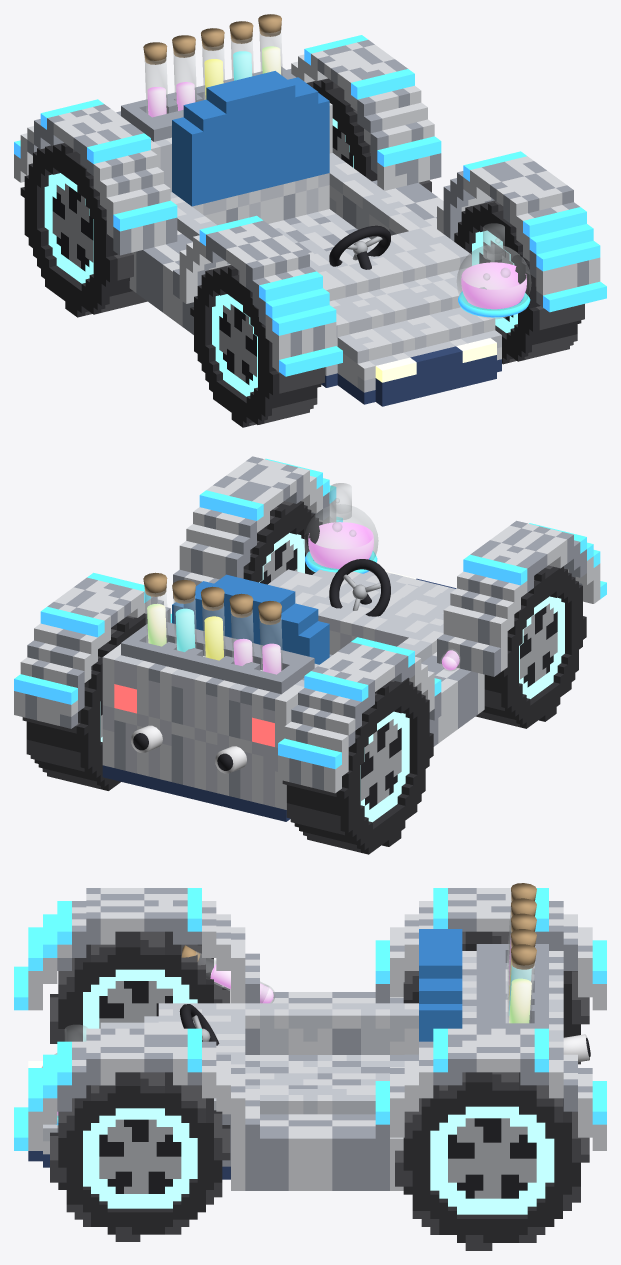
File: K02_LabRunner.glb
3 views of the same model, one above another, from view 1: azimuth 30°, elevation 25°; view 2: azimuth 150°, elevation 25°; view 3: azimuth 270°, elevation 25° (orthographic). The views are drawn at different scales.
Parts seen in each view (by area): view 1: K02_LabRunner_Mesh, K02_Wheel_RL, K02_Wheel_FL, K02_Wheel_FR, K02_Wheel_RR; view 2: K02_LabRunner_Mesh, K02_Wheel_RL, K02_Wheel_FL, K02_Wheel_RR, K02_Wheel_FR; view 3: K02_LabRunner_Mesh, K02_Wheel_RR, K02_Wheel_FR, K02_Wheel_FL, K02_Wheel_RL.
Boxes of the visible parts, bbox=[...] form: K02_LabRunner_Mesh: bbox=[14, 14, 606, 406]; K02_Wheel_RL: bbox=[20, 143, 147, 317]; K02_Wheel_FL: bbox=[190, 265, 324, 427]; K02_Wheel_FR: bbox=[454, 200, 584, 364]; K02_Wheel_RR: bbox=[306, 78, 431, 192]; K02_LabRunner_Mesh: bbox=[14, 456, 606, 821]; K02_Wheel_RL: bbox=[282, 677, 433, 854]; K02_Wheel_FL: bbox=[475, 565, 586, 728]; K02_Wheel_RR: bbox=[22, 613, 147, 790]; K02_Wheel_FR: bbox=[243, 501, 322, 584]; K02_LabRunner_Mesh: bbox=[14, 883, 606, 1190]; K02_Wheel_RR: bbox=[395, 1072, 589, 1250]; K02_Wheel_FR: bbox=[50, 1072, 230, 1241]; K02_Wheel_FL: bbox=[50, 931, 230, 1043]; K02_Wheel_RL: bbox=[403, 931, 589, 1064].
Size of the model in its own units: 1.69 by 1.13 by 2.46.
